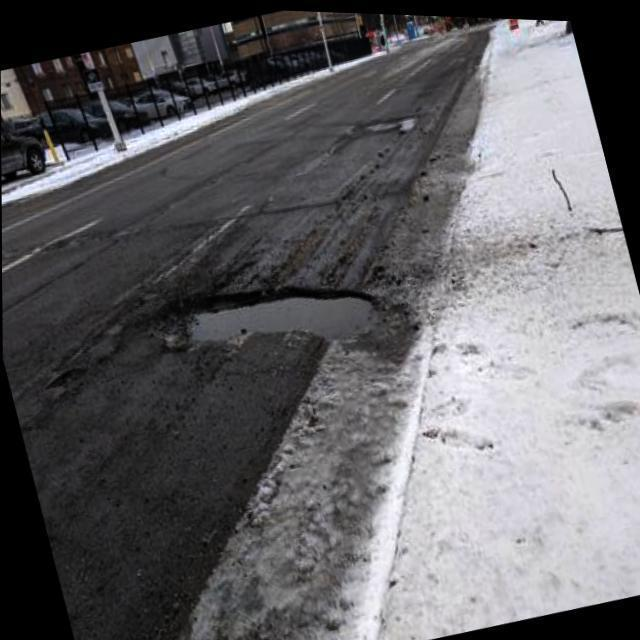Pothole: (146, 285, 379, 345)
